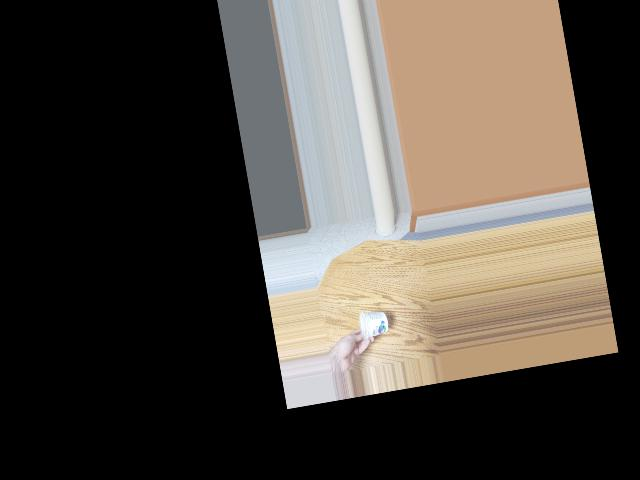cotage: (356, 305, 388, 341)
